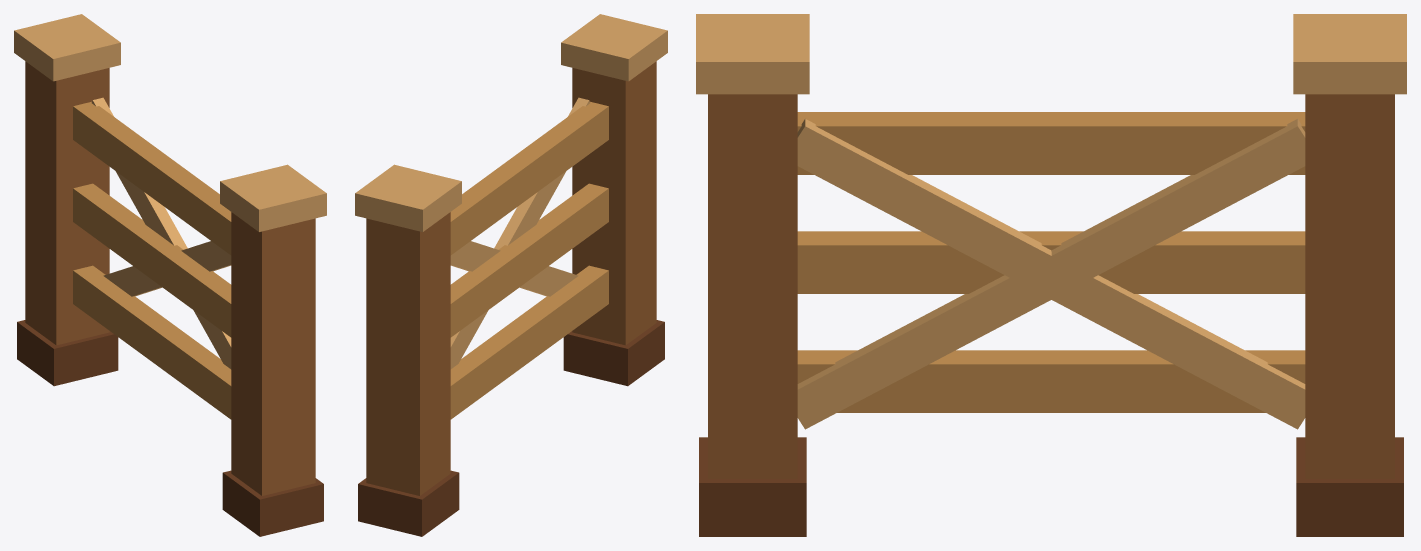
Rendered from fence-2.glb.
3 renders of one model, left to right at view 1: azimuth 30°, elevation 25°; view 2: azimuth 150°, elevation 25°; view 3: azimuth 270°, elevation 25°, orthographic. The views are drawn at different scales.
Parts seen in each view (by area): view 1: Fence2_Panel; view 2: Fence2_Panel; view 3: Fence2_Panel.
Boxes of the visible parts, bbox=[...] form: Fence2_Panel: bbox=[14, 14, 326, 536]; Fence2_Panel: bbox=[355, 14, 667, 536]; Fence2_Panel: bbox=[696, 14, 1406, 536].
Bounding box in the file's own units: 0.19 × 0.88 × 1.19.
